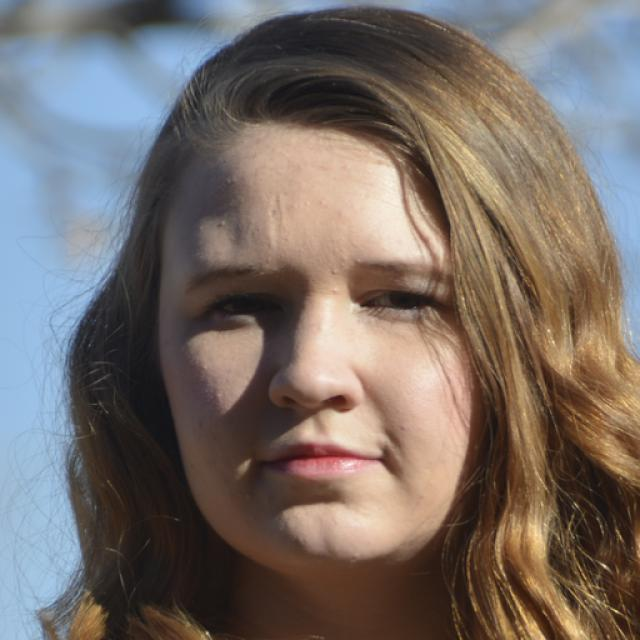Acne: (327, 262, 348, 282), (211, 215, 232, 234), (324, 285, 343, 302), (393, 418, 410, 434)
